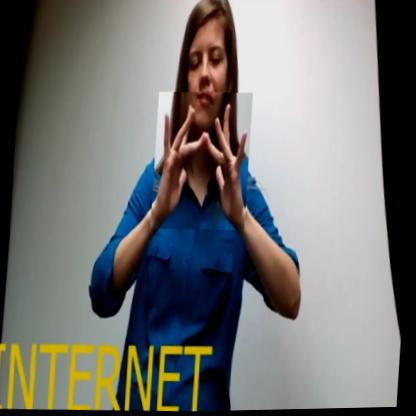Internet: (152, 91, 253, 233)
